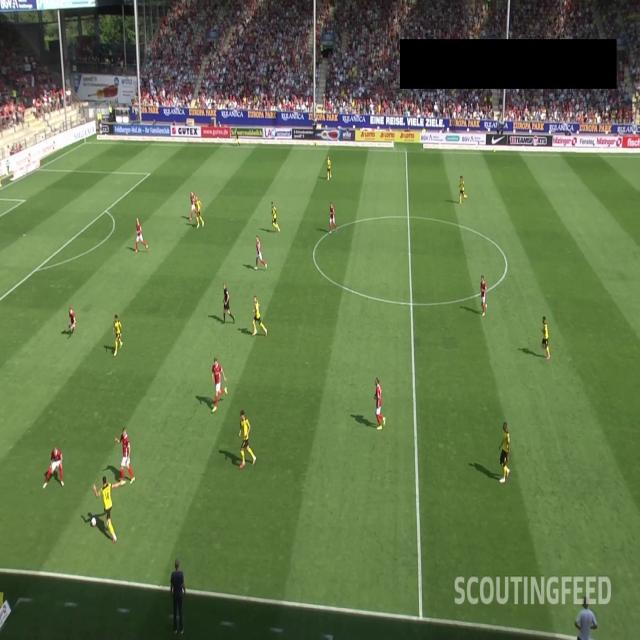ball: (89, 513, 99, 530)
player: (92, 471, 120, 542), (236, 406, 258, 469), (114, 427, 137, 487), (41, 443, 66, 491), (209, 355, 228, 415), (496, 414, 512, 483), (372, 369, 387, 429), (251, 294, 269, 339), (538, 311, 552, 364), (476, 270, 491, 318), (132, 215, 149, 252), (110, 312, 123, 358), (253, 231, 267, 271), (268, 196, 282, 233), (64, 302, 77, 340), (194, 194, 205, 229), (458, 172, 469, 205), (327, 200, 337, 234), (187, 186, 196, 223), (325, 151, 332, 182)
referee: (218, 278, 237, 326), (234, 124, 242, 146)
